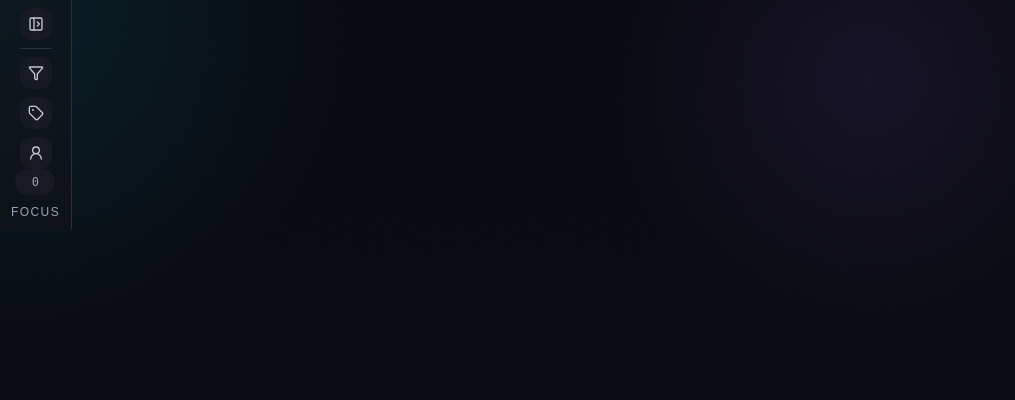
Test: FilterSidebar › expands only the developers section when the developers rail button is clicked
Click the button named "Expand developers" at [36, 153], box [20, 137, 52, 169]
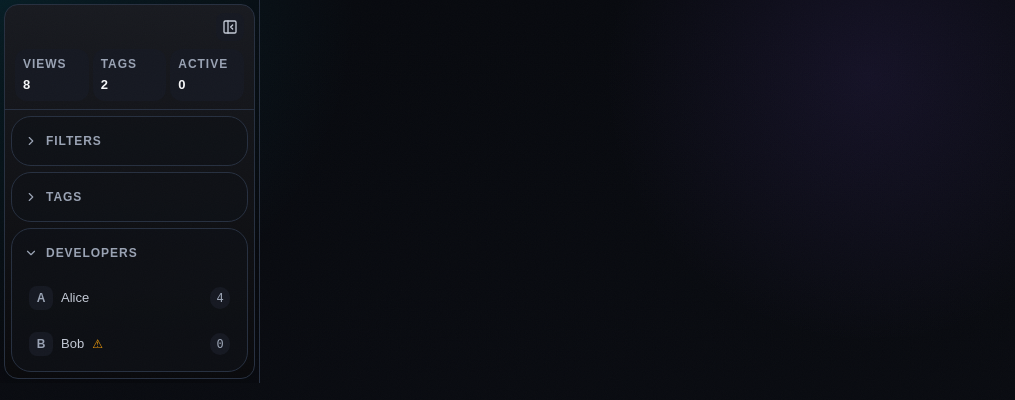
Now the text "Alice" is shown, box [61, 288, 89, 307]
